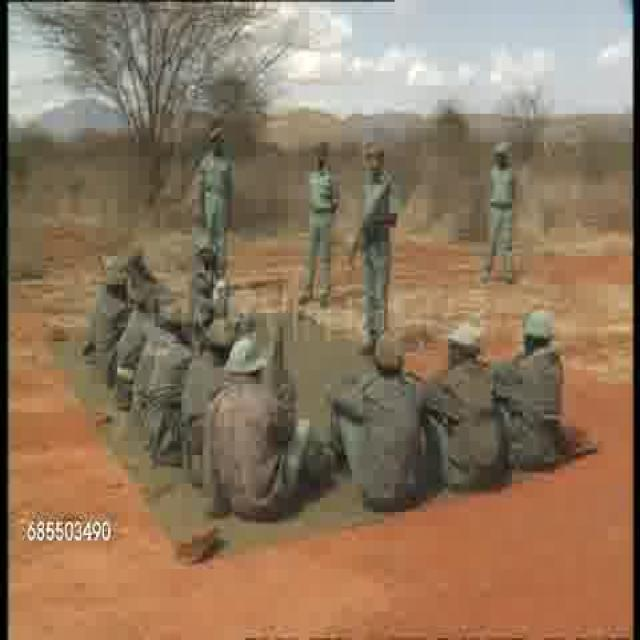poacher: (196, 340, 292, 518), (342, 319, 424, 502), (432, 309, 496, 498), (294, 128, 349, 318), (512, 304, 572, 476), (352, 146, 402, 344), (189, 132, 244, 276), (481, 140, 527, 286), (160, 311, 190, 461)
